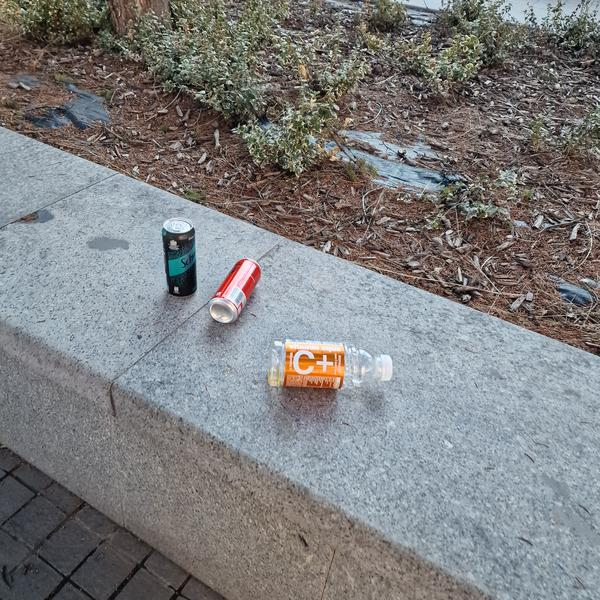can: (201, 251, 270, 332), (161, 215, 199, 298)
plastic_bottle: (267, 339, 395, 393)
